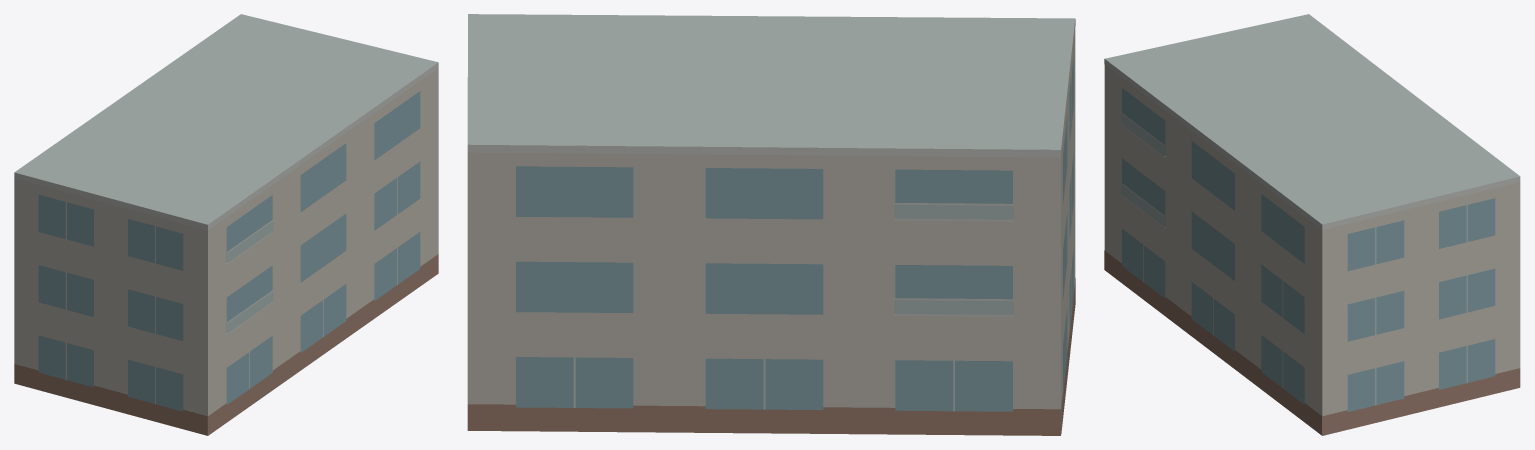
The model's file is survey-upis-32657461.glb.
The picture shows the model from 3 angles, left to right: view 1: azimuth 30°, elevation 25°; view 2: azimuth 150°, elevation 25°; view 3: azimuth 270°, elevation 25°; orthographic projection. The views are drawn at different scales.
Visible parts, largest first — view 1: survey-upis-32657461.tmp; view 2: survey-upis-32657461.tmp; view 3: survey-upis-32657461.tmp.
Part boxes in pixels (left/top/right/bottom): survey-upis-32657461.tmp: left=14, top=14, right=438, bottom=435; survey-upis-32657461.tmp: left=467, top=14, right=1075, bottom=435; survey-upis-32657461.tmp: left=1104, top=14, right=1520, bottom=435.
Bounding box in the file's own units: 19.57 × 9.15 × 16.33.
